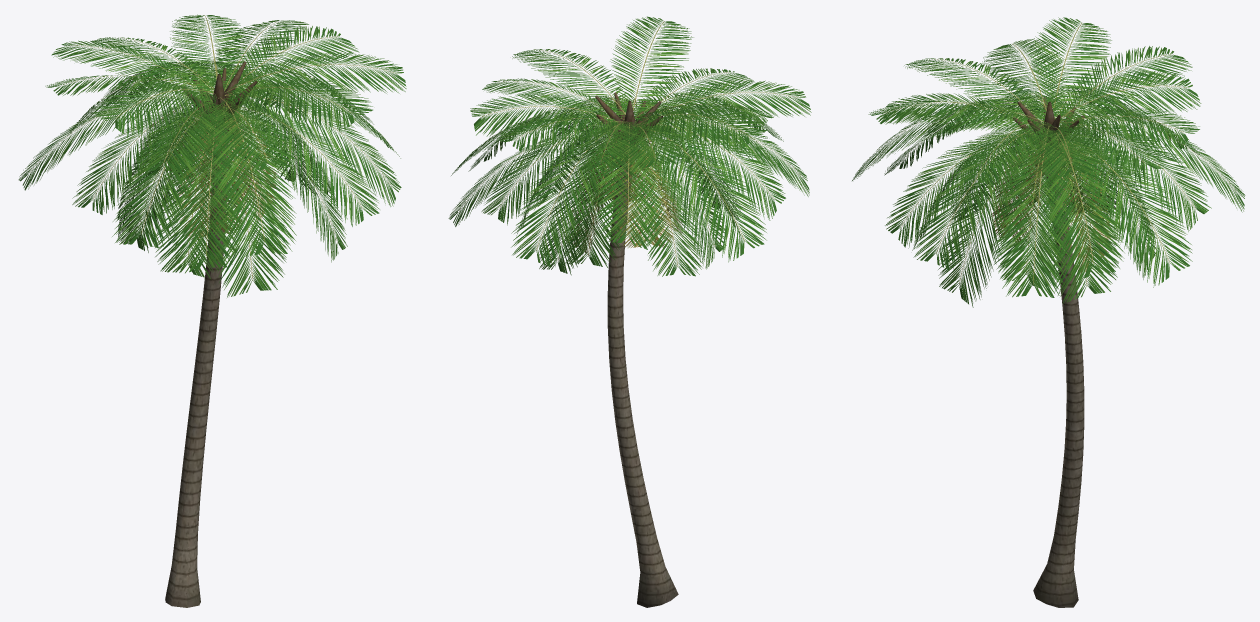
Rendered from tree_coconut.glb.
The picture shows the model from 3 angles, left to right: view 1: azimuth 30°, elevation 25°; view 2: azimuth 150°, elevation 25°; view 3: azimuth 270°, elevation 25°; orthographic projection. The views are drawn at different scales.
Visible parts, largest first — view 1: leaves, trunk; view 2: leaves, trunk; view 3: leaves, trunk.
Part boxes in pixels (x1,y1,x2,y2): leaves: [18, 14, 406, 297]; trunk: [165, 61, 257, 607]; leaves: [448, 16, 811, 276]; trunk: [595, 92, 678, 607]; leaves: [852, 17, 1245, 307]; trunk: [1013, 97, 1084, 607].
Size of the model in its own units: 8.47 by 12.56 by 8.6.
2 materials, 2 textured.
